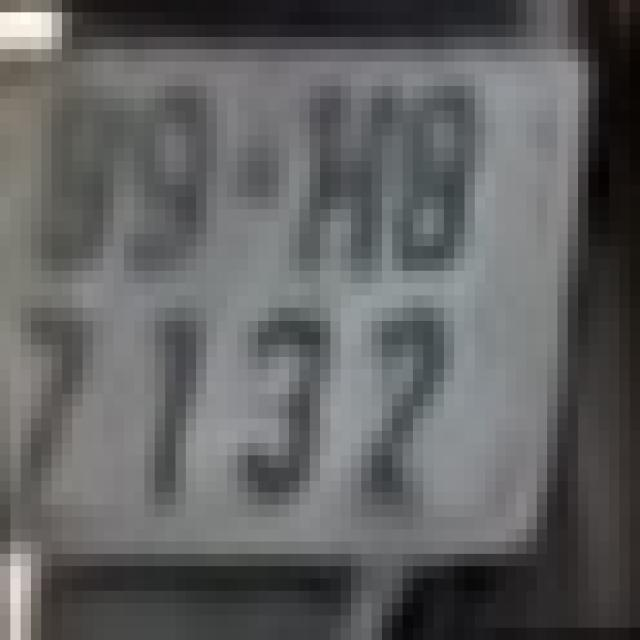1: (134, 308, 207, 504)
2: (361, 308, 454, 504)
3: (238, 308, 330, 504)
7: (10, 308, 93, 504)
8: (392, 86, 475, 271)
9: (124, 86, 206, 271)
H: (299, 74, 382, 283)
